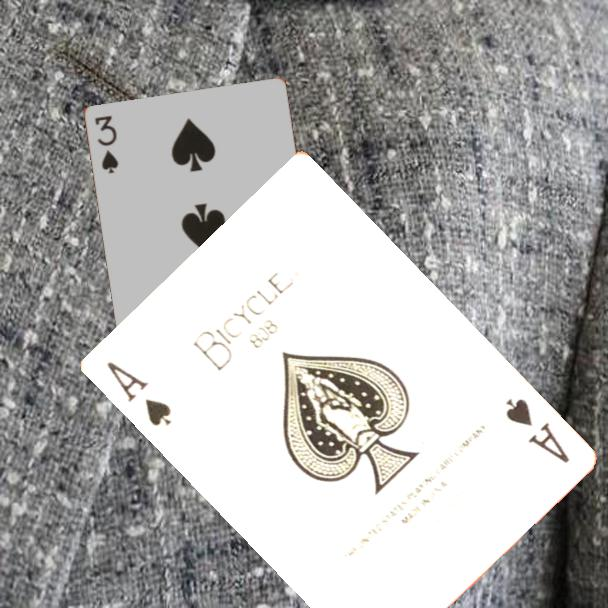s01: (102, 357, 174, 429), (501, 395, 572, 467)
s03: (92, 112, 121, 177)
